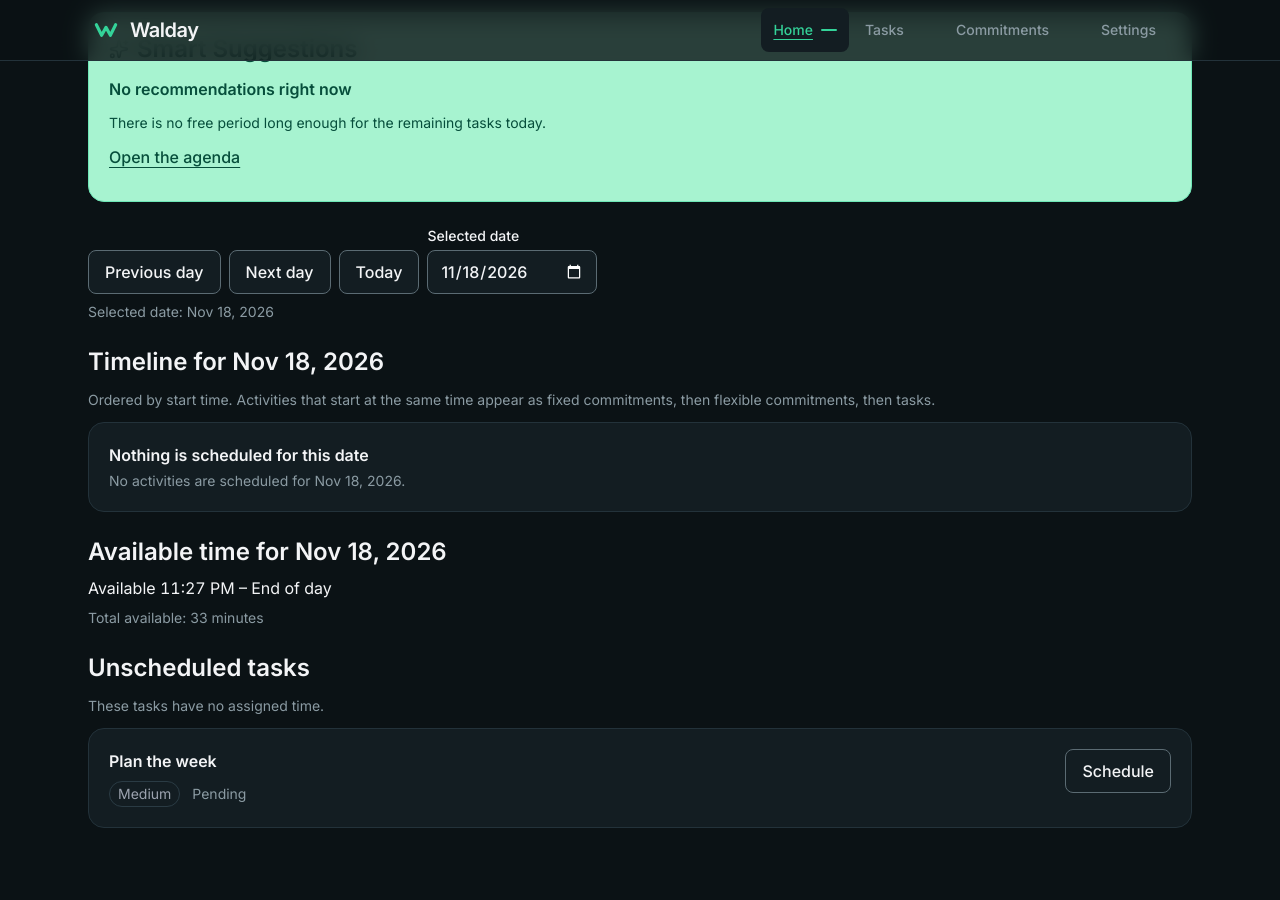
explicit task scheduling › rejects a period that would end after midnight without writing
The width and height of the screenshot is (1280, 900).
(page scrolled)
Click the button "Schedule" at (1118, 771), box left=1066, top=749, right=1171, bottom=793
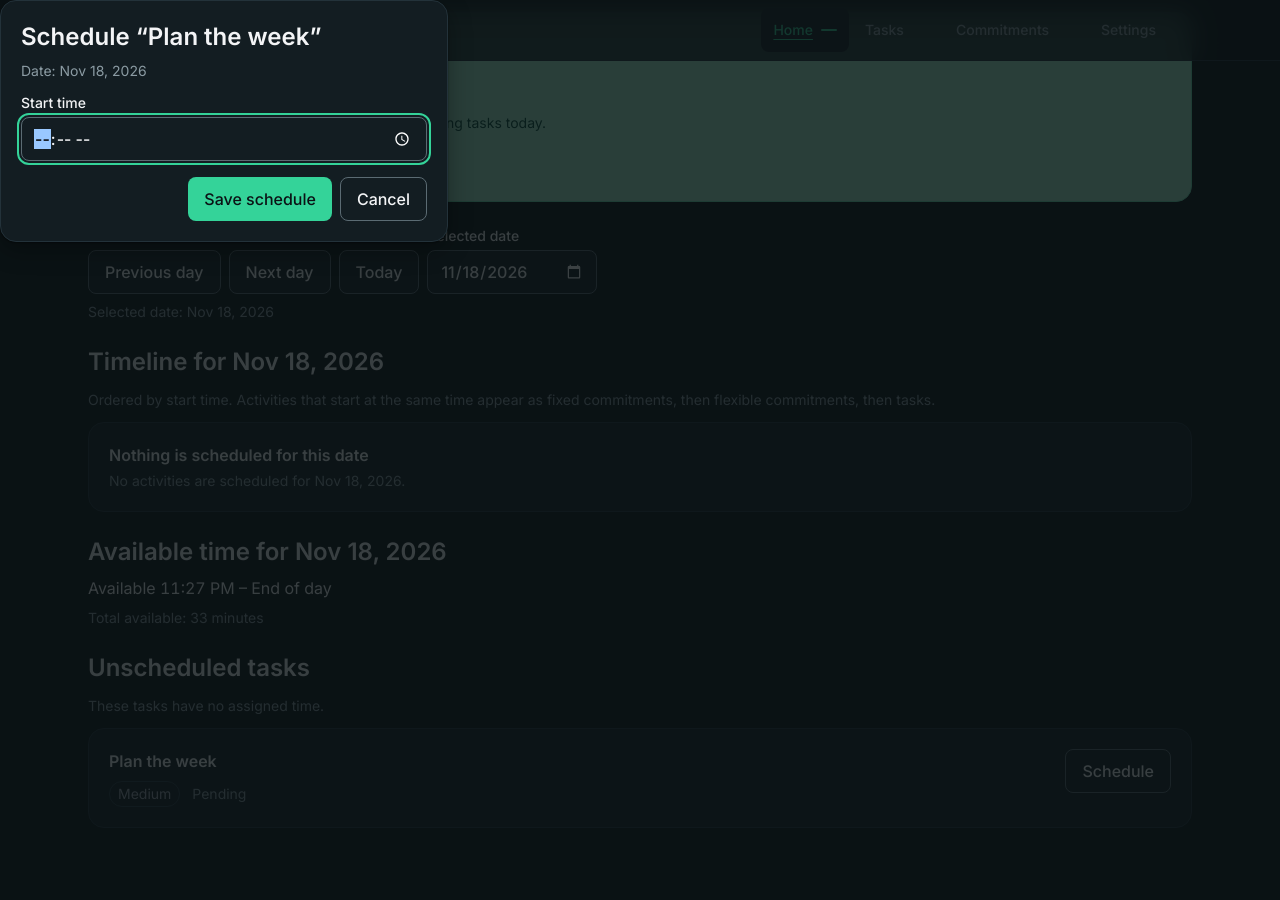
Type "23:30" into the time field labelled "Start time" at (224, 139), box left=21, top=117, right=427, bottom=161
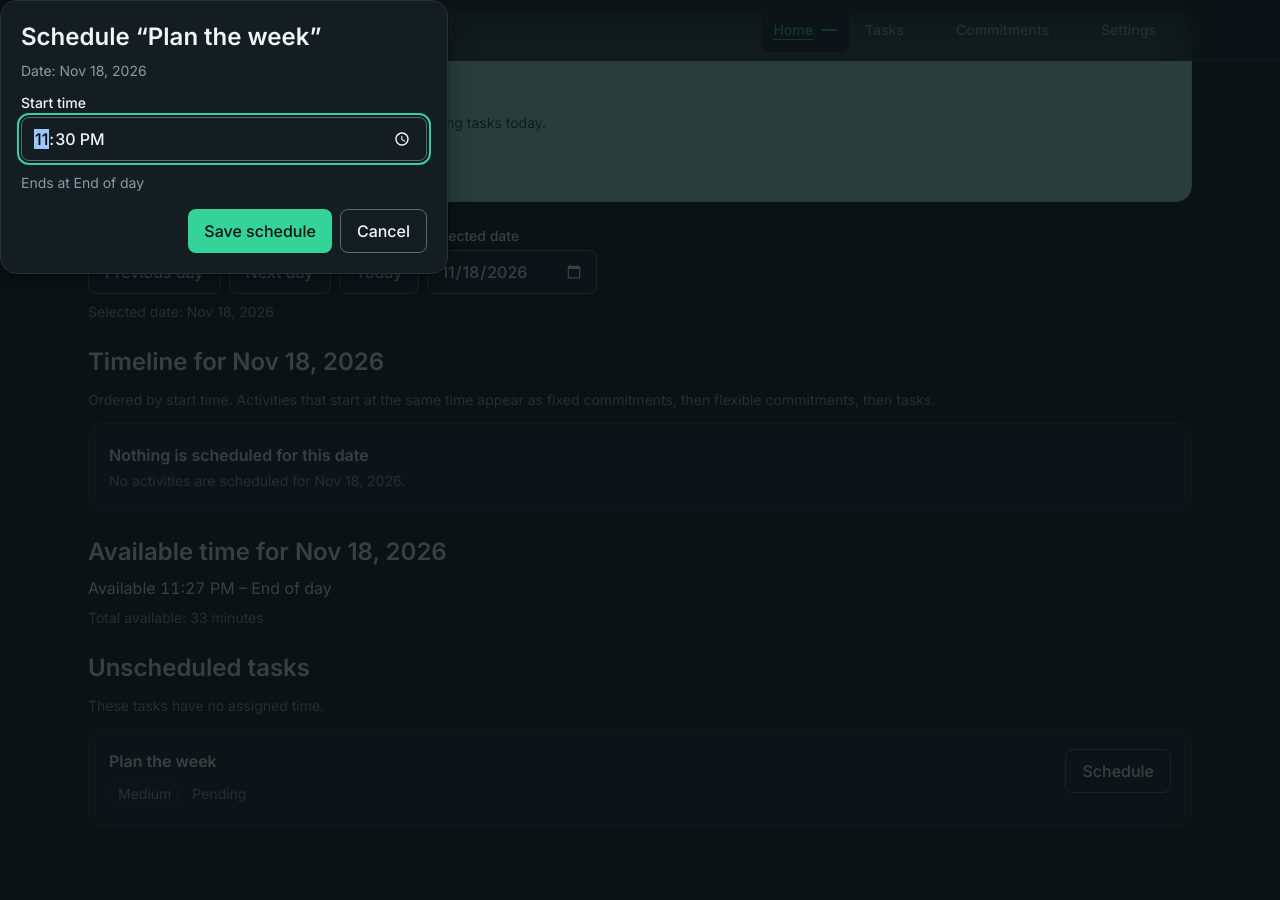
Click the button "Save schedule" at (260, 231), box left=188, top=209, right=332, bottom=253
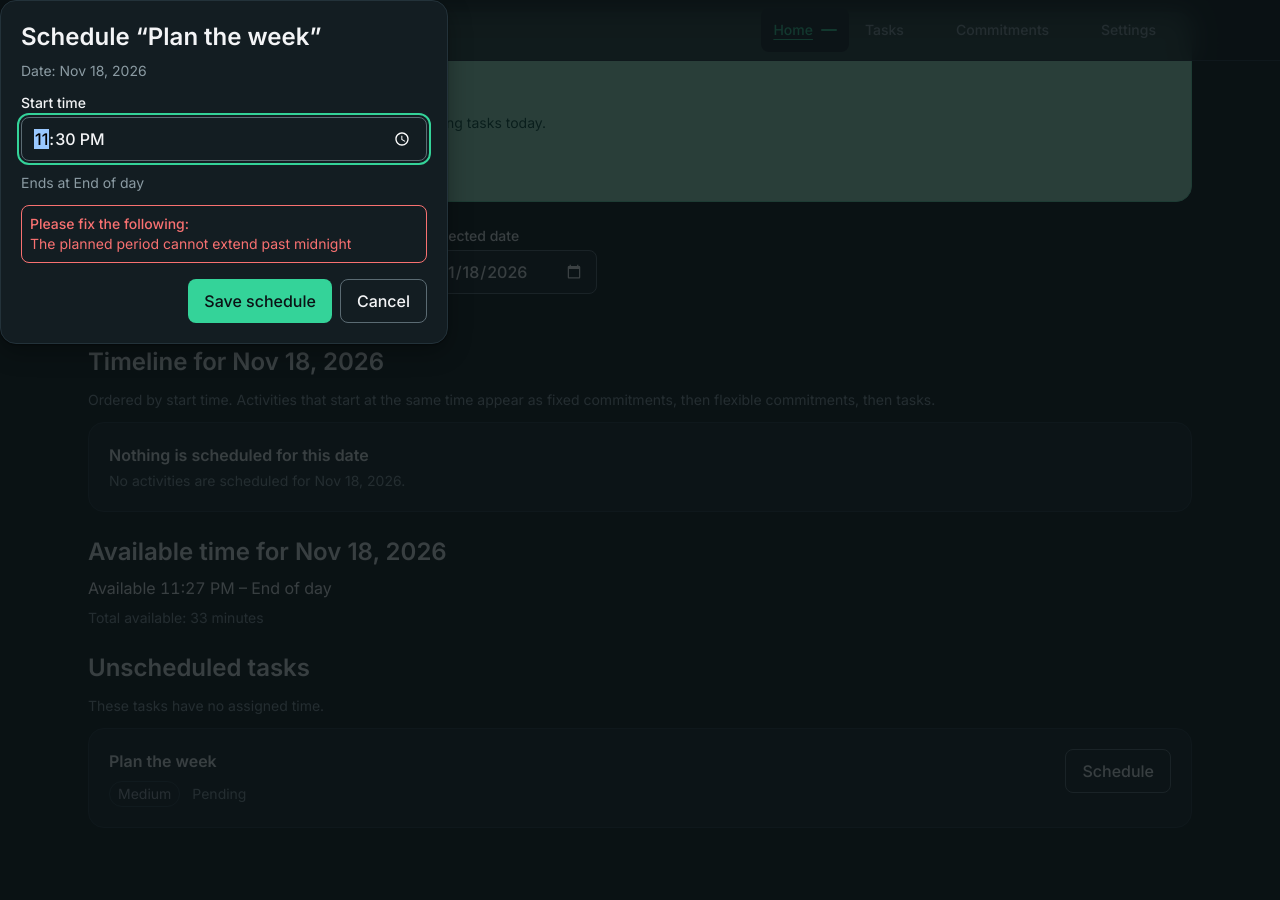
Expected: the list item "The planned period cannot extend past midnight" is shown, left=30, top=235, right=351, bottom=252
